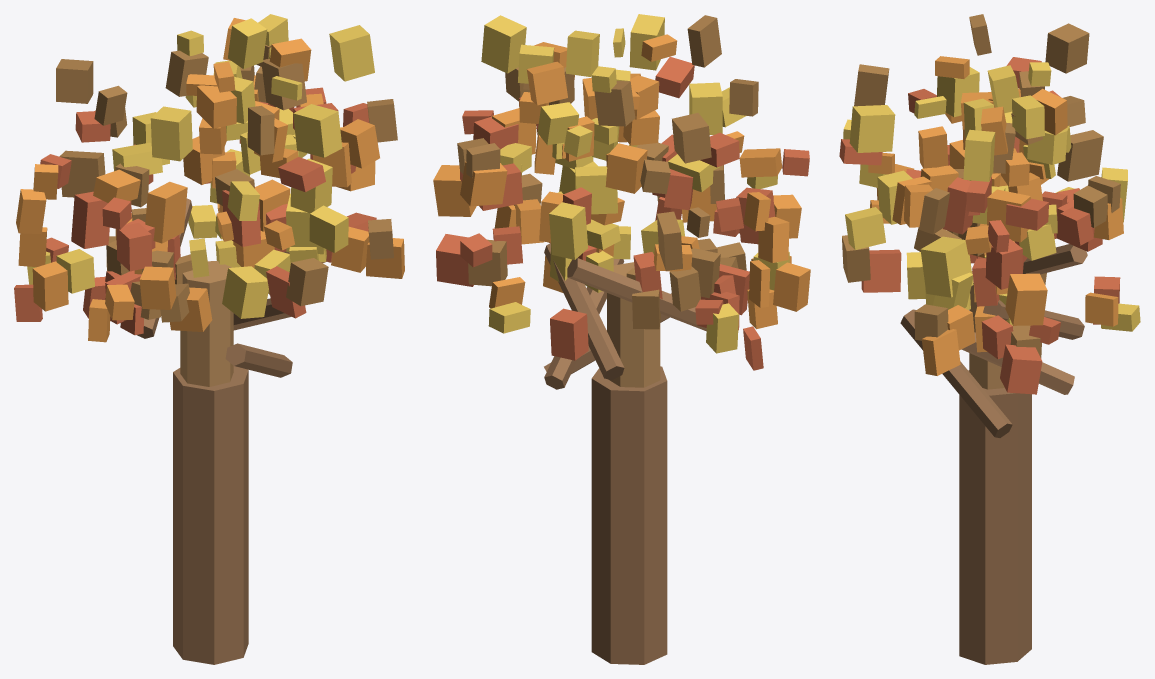
The model's file is granular_autumn_tree.glb.
The picture shows the model from 3 angles, left to right: view 1: azimuth 30°, elevation 25°; view 2: azimuth 150°, elevation 25°; view 3: azimuth 270°, elevation 25°; orthographic projection.
Parts seen in each view (by area): view 1: granular_autumn_tree_root; view 2: granular_autumn_tree_root; view 3: granular_autumn_tree_root.
Part boxes in pixels (box(x1,y1,x2,y2)): granular_autumn_tree_root: box(14, 14, 404, 664); granular_autumn_tree_root: box(433, 14, 810, 664); granular_autumn_tree_root: box(839, 14, 1140, 664).
Bounding box in the file's own units: 3.14 × 5.2 × 2.37.
